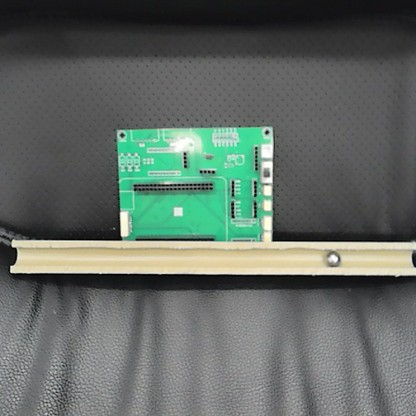ironball: (322, 247, 342, 268)
